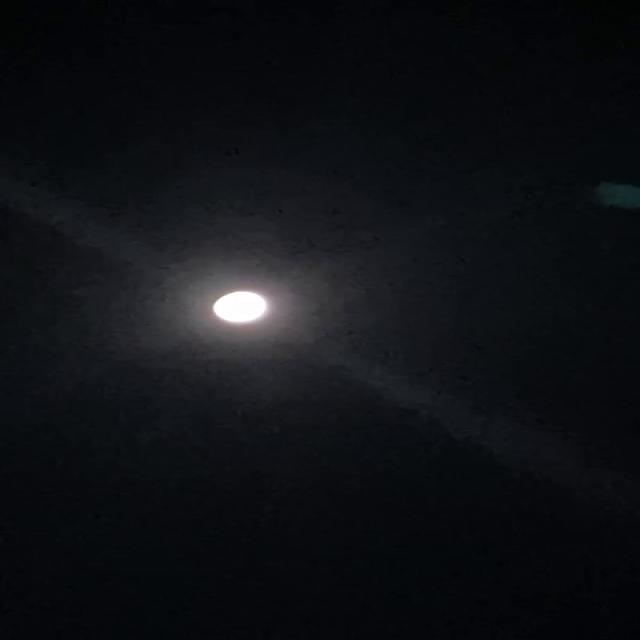moon: (198, 286, 276, 328)
